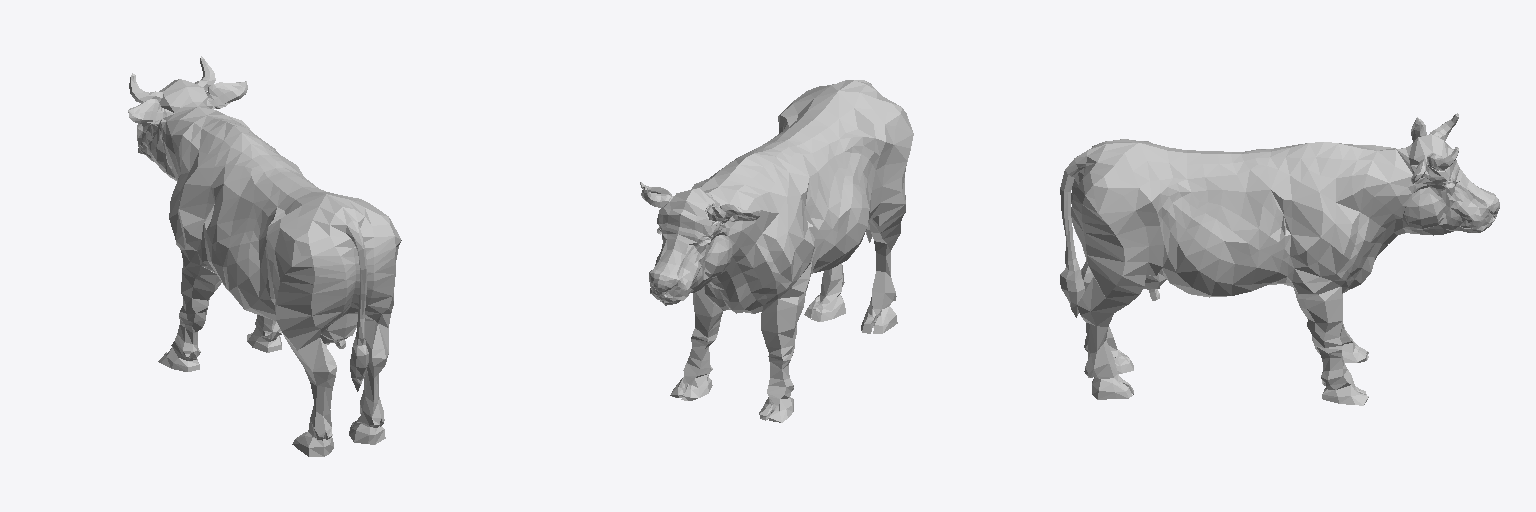
The model's file is frame5.obj.
The picture shows the model from 3 angles: view 1: azimuth 30°, elevation 25°; view 2: azimuth 150°, elevation 25°; view 3: azimuth 270°, elevation 25°; orthographic projection.
Visible parts, largest first — view 1: frame1:Mesh; view 2: frame1:Mesh; view 3: frame1:Mesh.
Part boxes in pixels (x1,y1,x2,y2): frame1:Mesh: (128, 56, 401, 456); frame1:Mesh: (640, 80, 913, 422); frame1:Mesh: (1060, 113, 1499, 405).
Bounding box in the file's own units: 3.07 × 6.22 × 9.84.